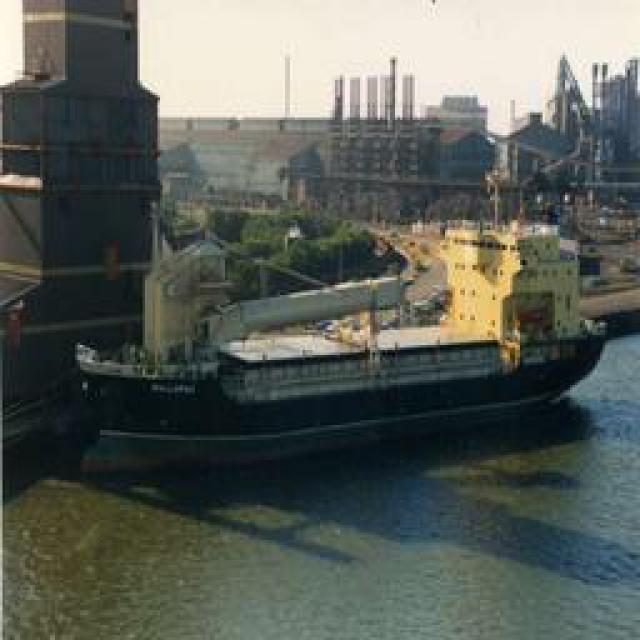Ship: (72, 221, 619, 448)
